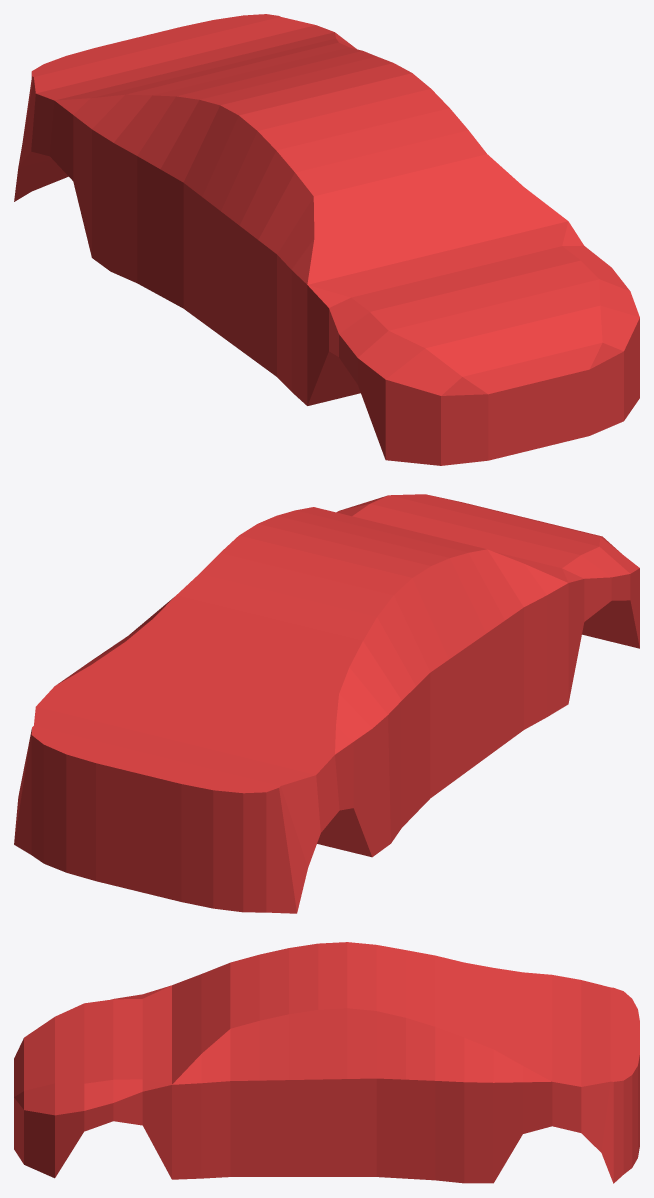
File: CAR.glb
The picture shows the model from 3 angles, top to bottom: view 1: azimuth 30°, elevation 25°; view 2: azimuth 150°, elevation 25°; view 3: azimuth 270°, elevation 25°; orthographic projection. The views are drawn at different scales.
Parts seen in each view (by area): view 1: Cube; view 2: Cube; view 3: Cube.
Part boxes in pixels (bbox=[...]): Cube: bbox=[14, 14, 639, 465]; Cube: bbox=[14, 494, 639, 913]; Cube: bbox=[14, 942, 639, 1183].
Bounding box in the file's own units: 6.47 × 4.22 × 15.47.
